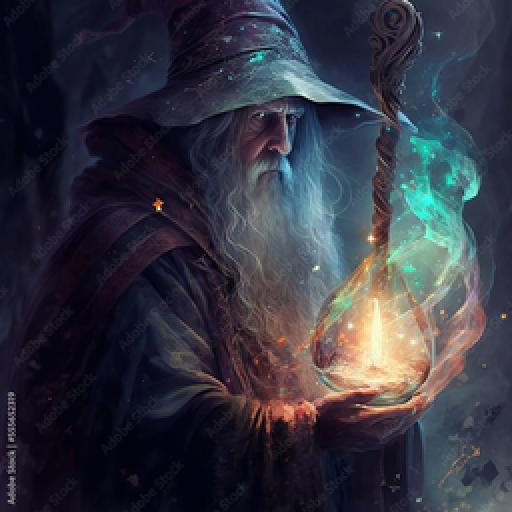wizards: (48, 0, 432, 512)
